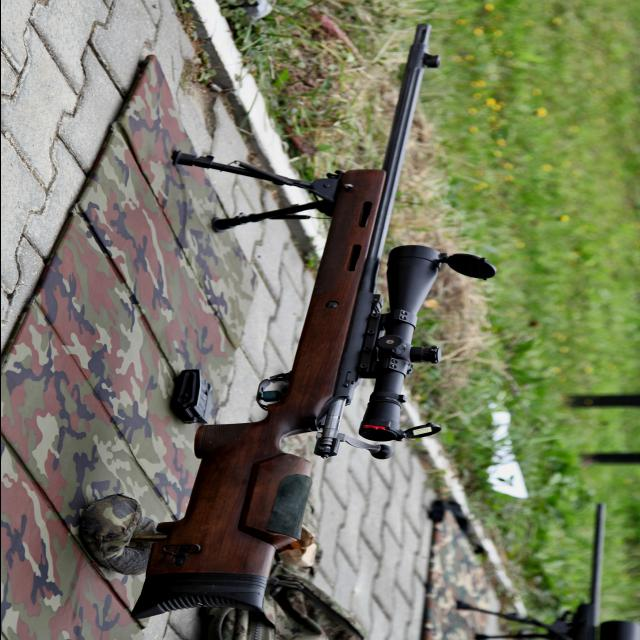long weapon: (73, 14, 538, 617)
